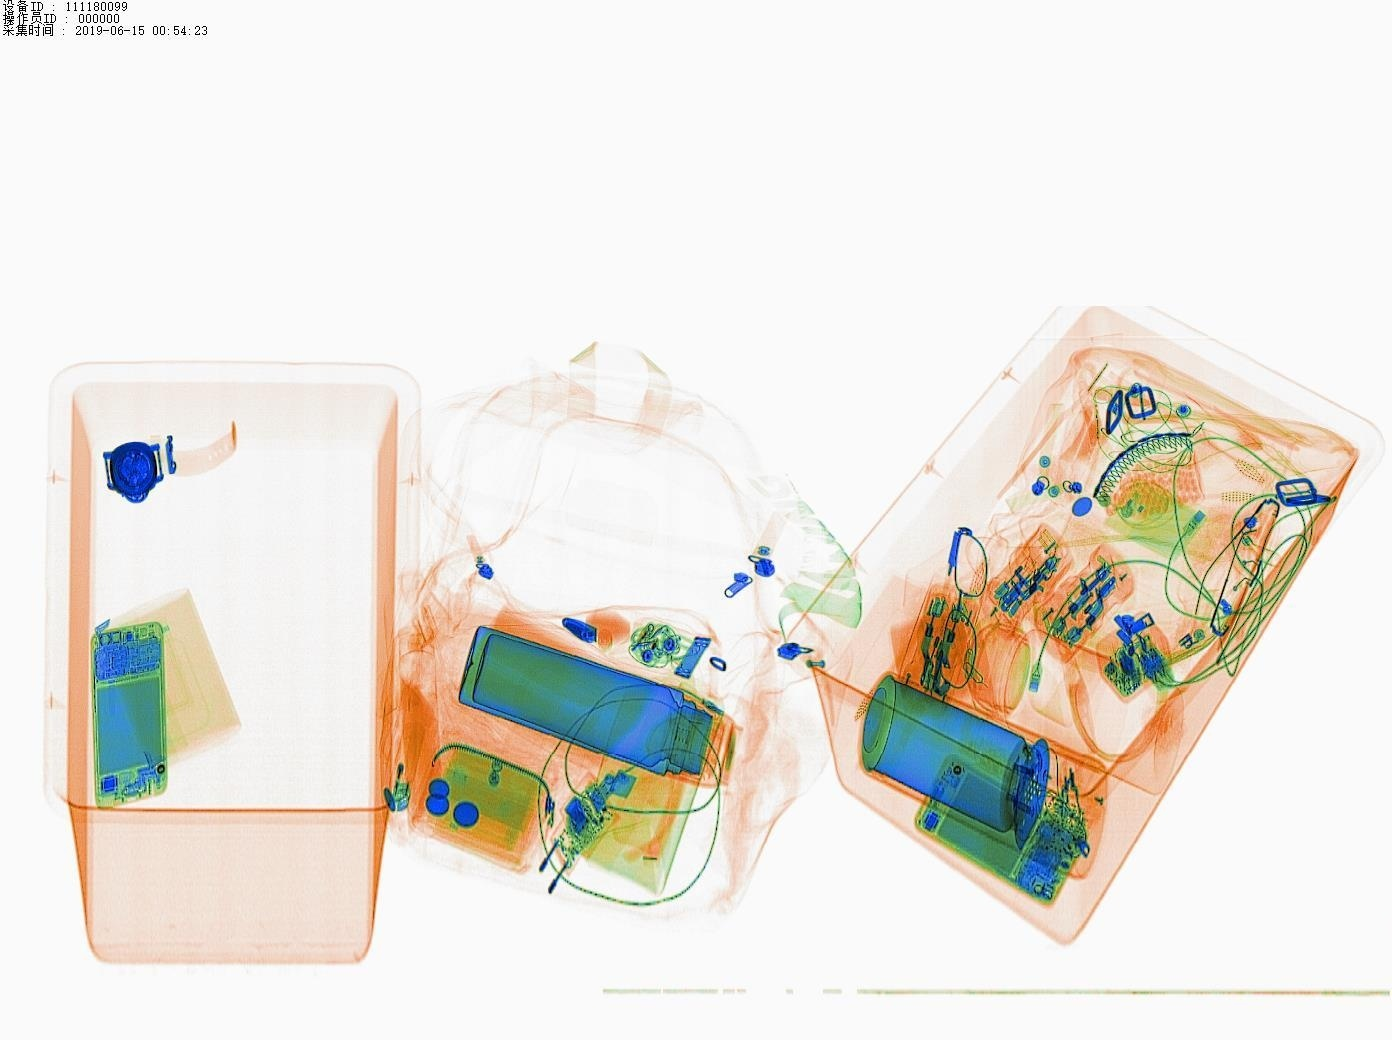NonmetallicFire: (380, 711, 433, 825)
